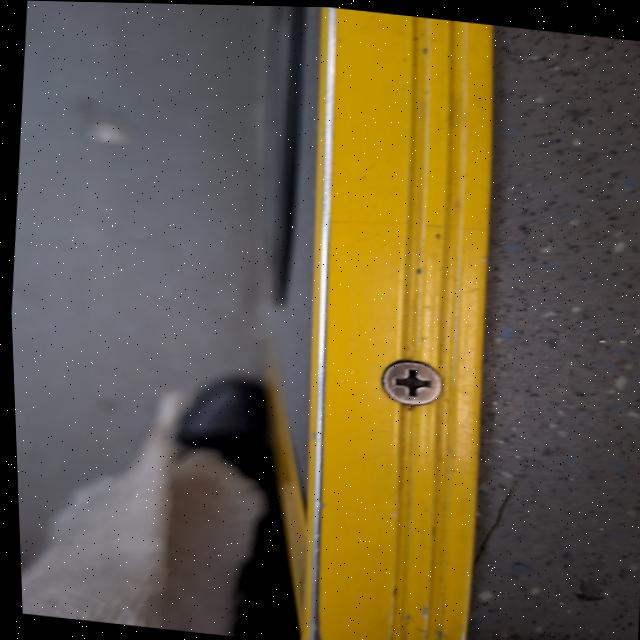Phillips: (366, 354, 443, 410)
